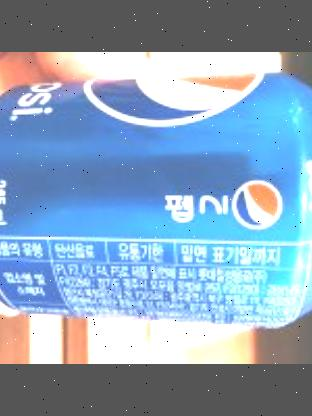Can: (0, 70, 312, 331)
